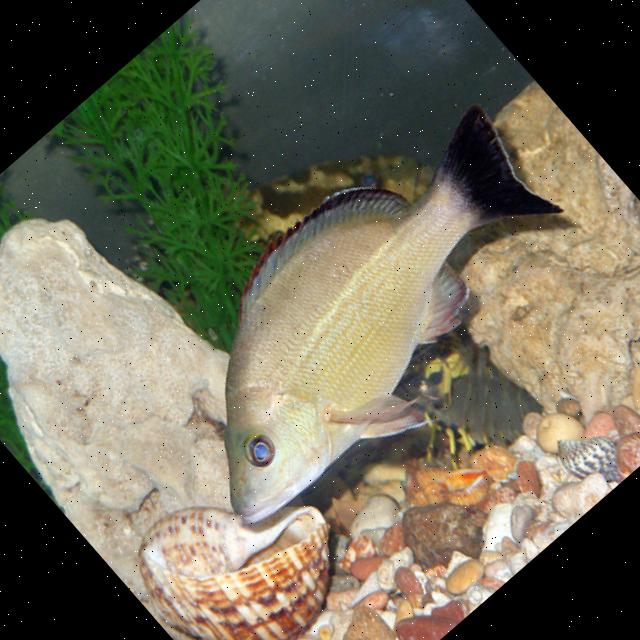ikan: (113, 74, 619, 560)
